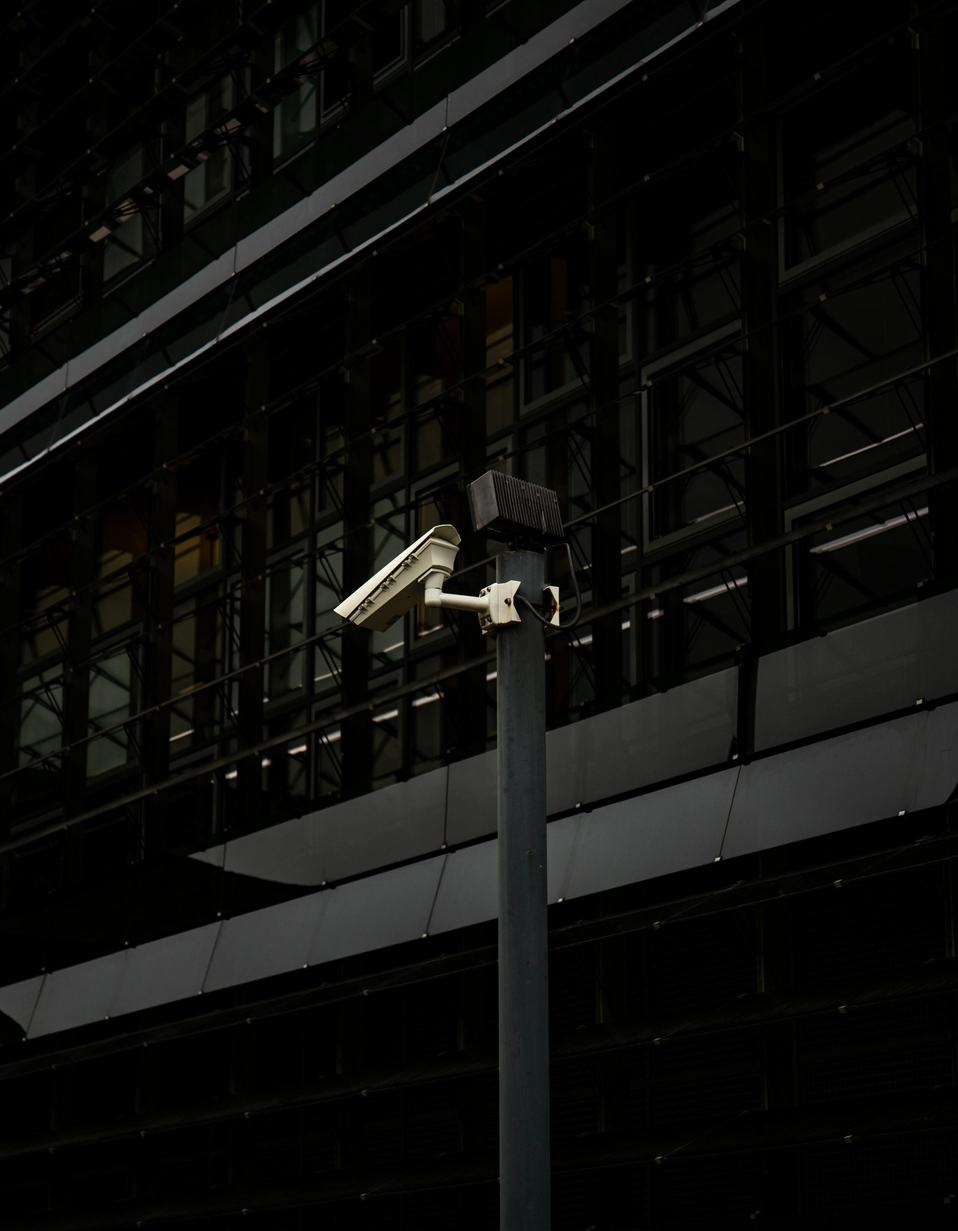camera: (262, 496, 502, 691)
